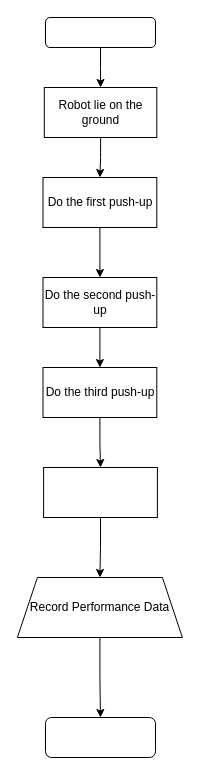
The diagram is 200 pixels wide and 775 high, and some of its shapes have lost their labels. Each missing label, with the centre of its shape:
"End" belongs at (x=100, y=737).
"Stand up." belongs at (x=100, y=492).
"Start" belongs at (x=100, y=32).
